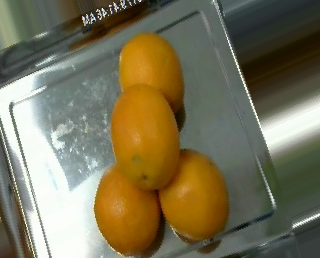Orange: (110, 84, 181, 191), (158, 149, 229, 240), (94, 166, 162, 256), (115, 31, 182, 118)
